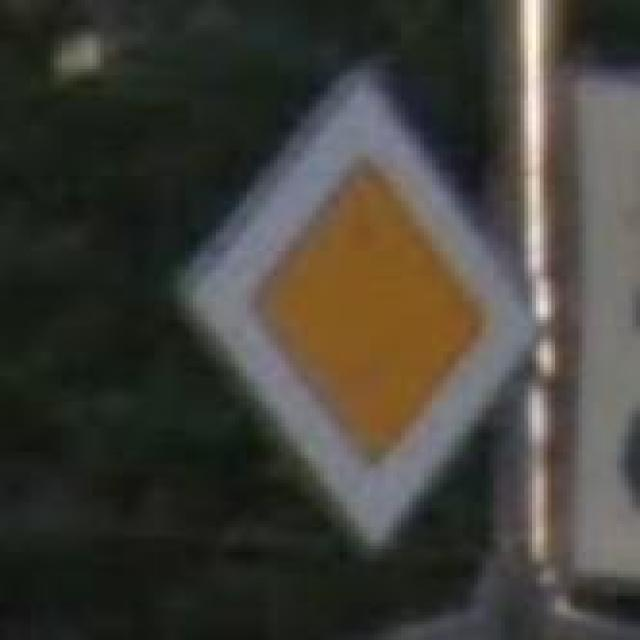traffic_sign: (173, 66, 540, 555)
